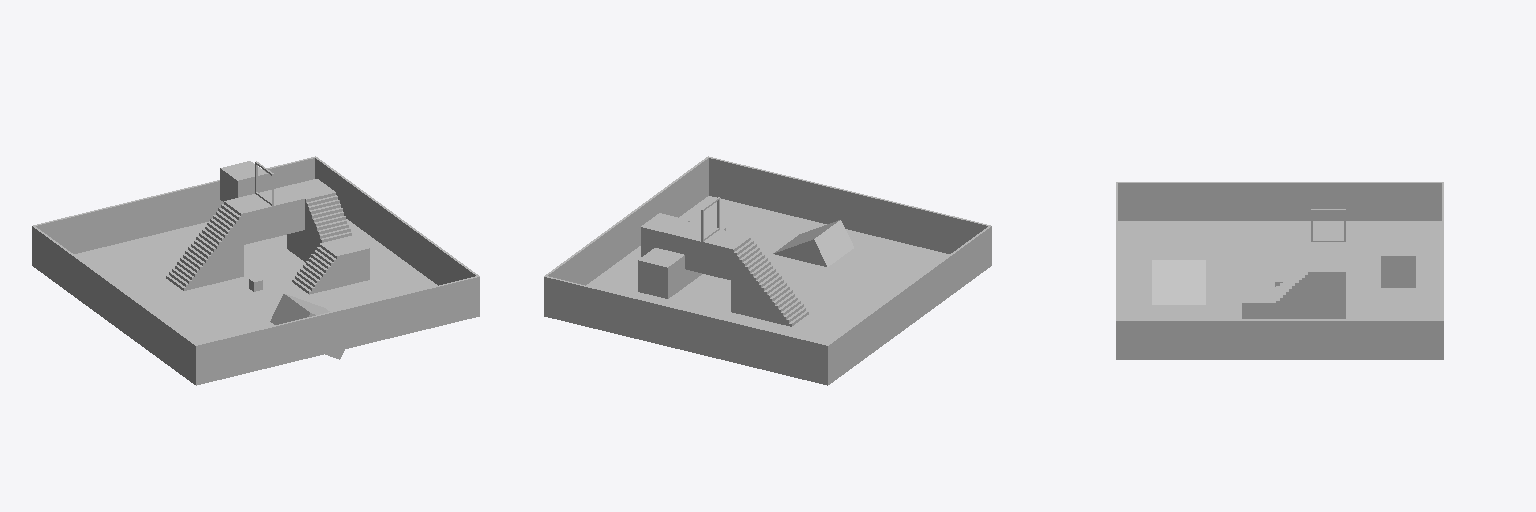
File: proto_scene.obj
3 renders of one model, left to right at view 1: azimuth 30°, elevation 25°; view 2: azimuth 150°, elevation 25°; view 3: azimuth 270°, elevation 25°, orthographic.
Parts seen in each view (by area): view 1: Cube, Cube.003_Cube.004, Cube.011_Cube.012, Cube.012_Cube.013, Cube.005_Cube.006, Cube.004_Cube.005, Cube.009_Cube.010, Cube.010_Cube.011, Cube.015_Cube.016, Cube.014_Cube.017, Cube.013_Cube.014; view 2: Cube, Cube.014_Cube.017, Cube.015_Cube.016, Cube.012_Cube.013, Cube.011_Cube.012, Cube.010_Cube.011, Cube.009_Cube.010, Cube.007_Cube.008, Cube.013_Cube.014; view 3: Cube, Cube.014_Cube.017, Cube.015_Cube.016, Cube.007_Cube.008, Cube.003_Cube.004, Cube.004_Cube.005, Cube.006_Cube.007, Cube.008_Cube.009, Cube.009_Cube.010.
Boxes of the visible parts, x1,y1,x2,y2 form: Cube: [32, 156, 479, 385]; Cube.003_Cube.004: [305, 191, 351, 242]; Cube.011_Cube.012: [196, 201, 243, 251]; Cube.012_Cube.013: [166, 240, 213, 290]; Cube.005_Cube.006: [292, 243, 338, 294]; Cube.004_Cube.005: [323, 236, 369, 286]; Cube.009_Cube.010: [260, 186, 304, 237]; Cube.010_Cube.011: [227, 194, 273, 244]; Cube.015_Cube.016: [220, 161, 267, 201]; Cube.014_Cube.017: [270, 294, 344, 359]; Cube.013_Cube.014: [214, 245, 243, 283]; Cube: [544, 156, 991, 385]; Cube.014_Cube.017: [773, 220, 853, 266]; Cube.015_Cube.016: [638, 248, 684, 298]; Cube.012_Cube.013: [761, 275, 808, 326]; Cube.011_Cube.012: [731, 236, 778, 287]; Cube.010_Cube.011: [701, 229, 747, 279]; Cube.009_Cube.010: [671, 222, 715, 272]; Cube.007_Cube.008: [641, 214, 687, 256]; Cube.013_Cube.014: [731, 281, 760, 318]; Cube: [1116, 182, 1443, 359]; Cube.014_Cube.017: [1152, 260, 1205, 304]; Cube.015_Cube.016: [1381, 241, 1415, 287]; Cube.007_Cube.008: [1311, 257, 1345, 302]; Cube.003_Cube.004: [1276, 257, 1310, 302]; Cube.004_Cube.005: [1242, 289, 1275, 318]; Cube.006_Cube.007: [1276, 303, 1310, 318]; Cube.008_Cube.009: [1311, 303, 1345, 318]; Cube.009_Cube.010: [1311, 242, 1345, 256].
Bounding box in the file's own units: 60 × 25.07 × 60.